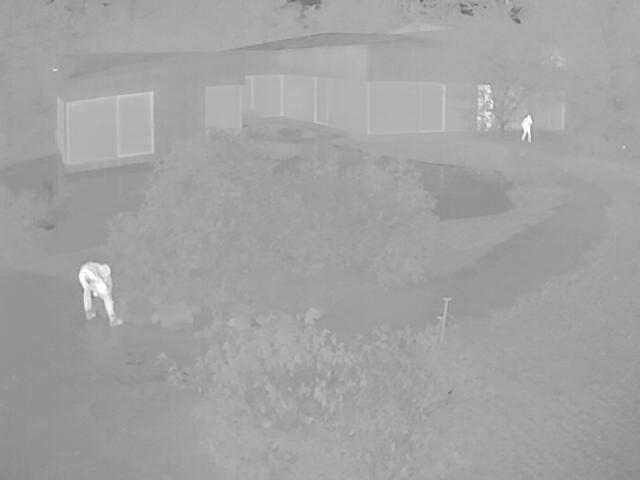person: (76, 260, 125, 328), (520, 114, 532, 139)
